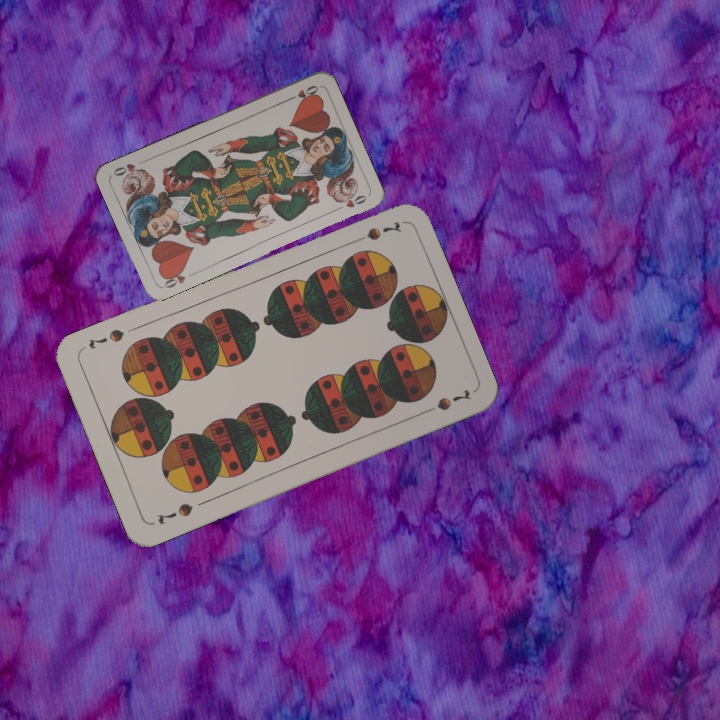HO: (282, 81, 321, 104), (158, 265, 188, 291)
S7: (347, 217, 404, 246), (152, 499, 196, 527)
